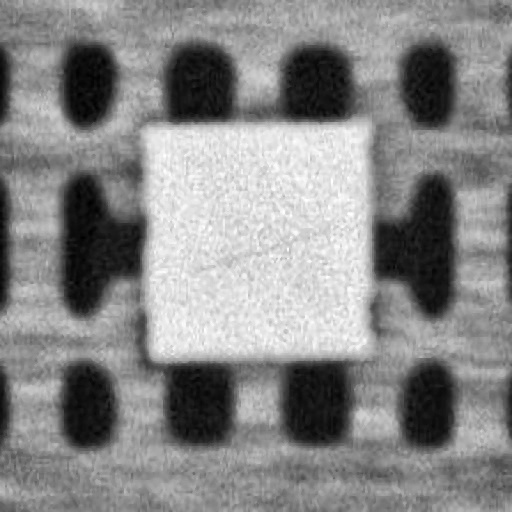DIE_CRACK: (289, 151, 491, 179)
